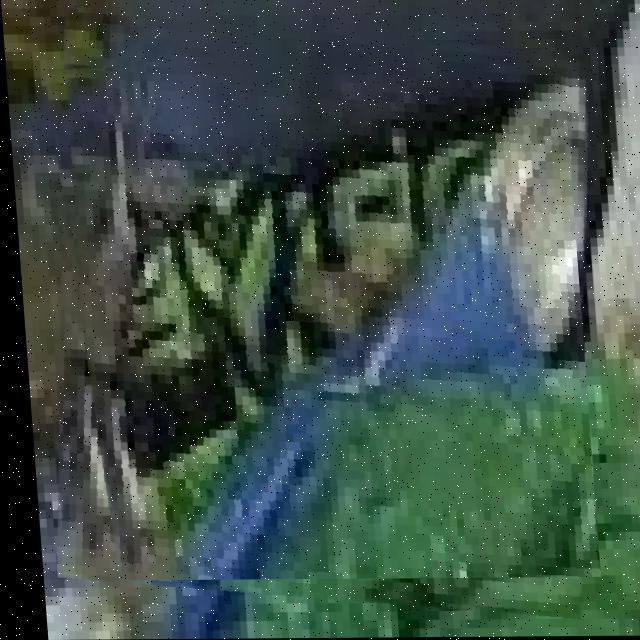can: (71, 52, 579, 581)
